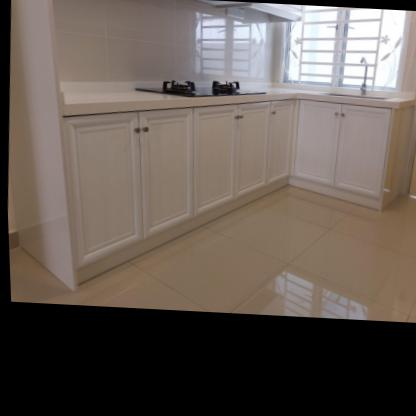Cabinet: (52, 86, 416, 302)
